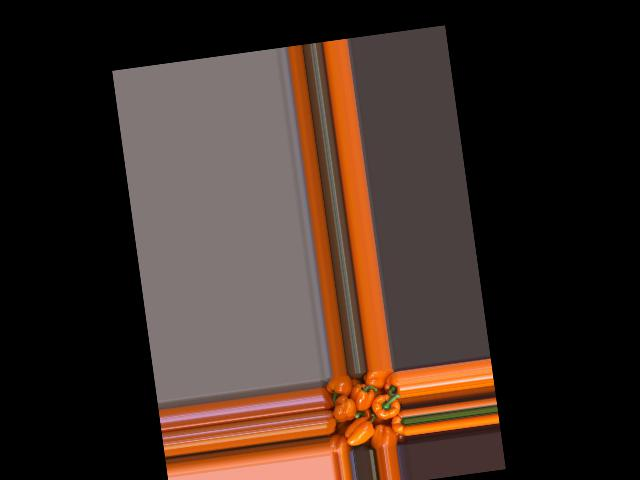bell_pepper: (320, 383, 341, 415)
